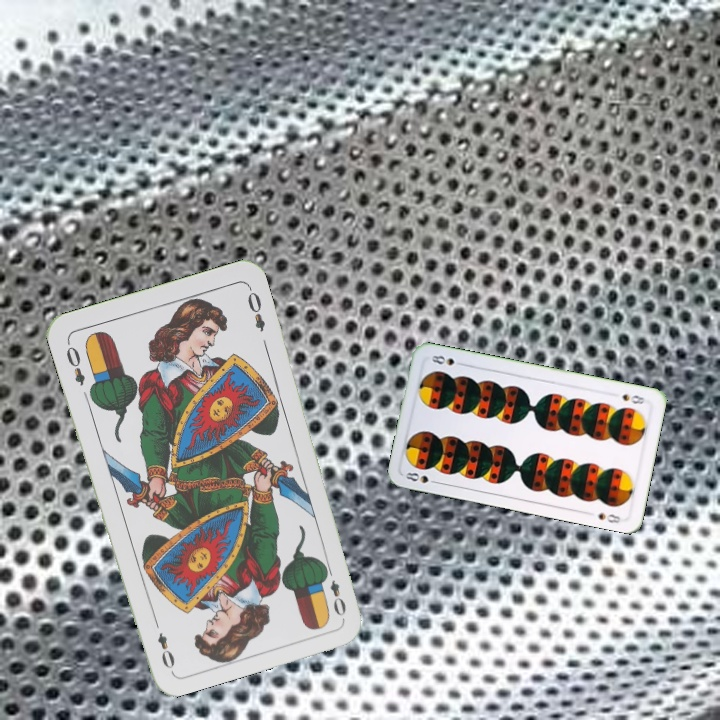EO: (320, 562, 349, 619), (62, 337, 88, 388)
S8: (402, 468, 442, 486), (618, 390, 648, 407)
